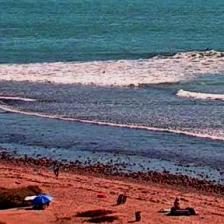surfer: (205, 47, 210, 51)
